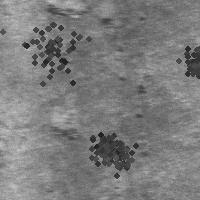rolled-in_scale: (2, 1, 92, 91), (41, 3, 122, 67), (109, 78, 150, 160), (86, 127, 142, 183), (83, 126, 125, 168), (175, 39, 200, 79)
